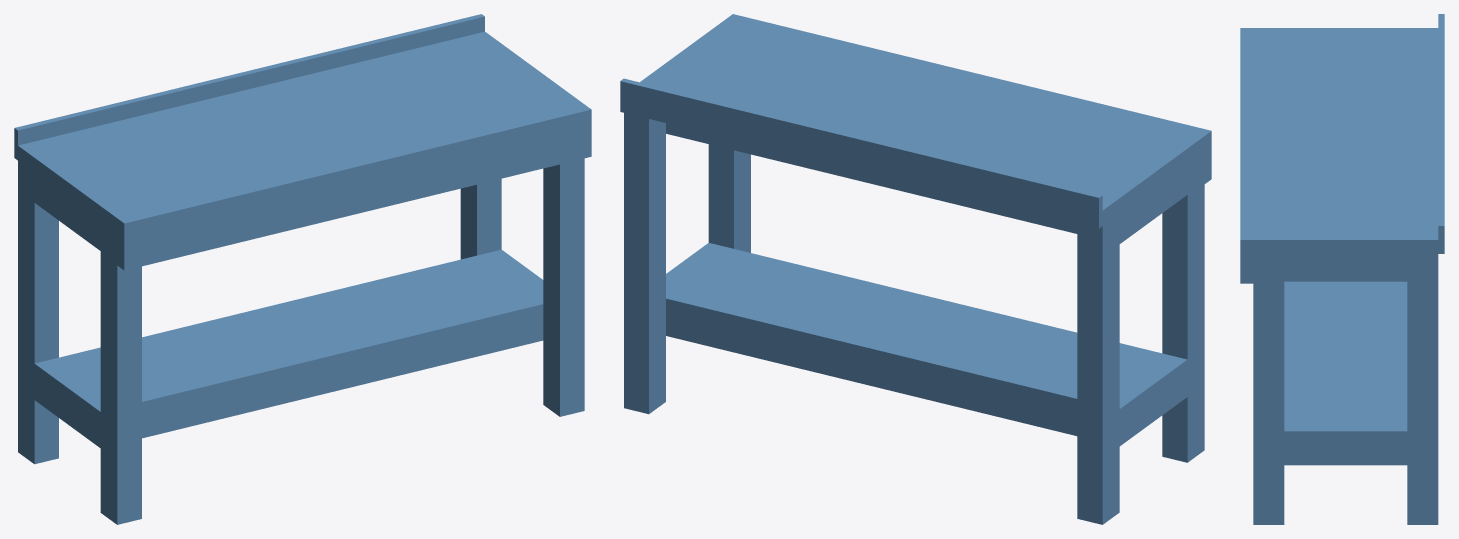
3 renders of one model, left to right at view 1: azimuth 30°, elevation 25°; view 2: azimuth 150°, elevation 25°; view 3: azimuth 270°, elevation 25°, orthographic. The views are drawn at different scales.
Visible parts, largest first — view 1: mesh37_mesh37-geometry, mesh39_mesh39-geometry, mesh35_mesh35-geometry, mesh29_mesh29-geometry, mesh41_mesh41-geometry, mesh15_mesh15-geometry, mesh1_mesh1-geometry, mesh3_mesh3-geometry, mesh43_mesh43-geometry, mesh17_mesh17-geometry, mesh9_mesh9-geometry, mesh19_mesh19-geometry (+6 smaller); view 2: mesh37_mesh37-geometry, mesh39_mesh39-geometry, mesh41_mesh41-geometry, mesh25_mesh25-geometry, mesh13_mesh13-geometry, mesh3_mesh3-geometry, mesh1_mesh1-geometry, mesh43_mesh43-geometry, mesh27_mesh27-geometry, mesh35_mesh35-geometry, mesh11_mesh11-geometry, mesh17_mesh17-geometry (+7 smaller); view 3: mesh37_mesh37-geometry, mesh39_mesh39-geometry, mesh23_mesh23-geometry, mesh21_mesh21-geometry, mesh5_mesh5-geometry, mesh7_mesh7-geometry, mesh43_mesh43-geometry, mesh35_mesh35-geometry, mesh41_mesh41-geometry, mesh31_mesh31-geometry, mesh33_mesh33-geometry.
Boxes of the visible parts, bbox=[...] form: mesh37_mesh37-geometry: bbox=[18, 31, 583, 219]; mesh39_mesh39-geometry: bbox=[34, 249, 543, 417]; mesh35_mesh35-geometry: bbox=[117, 104, 591, 270]; mesh29_mesh29-geometry: bbox=[142, 310, 543, 438]; mesh41_mesh41-geometry: bbox=[14, 14, 484, 160]; mesh15_mesh15-geometry: bbox=[543, 161, 572, 416]; mesh1_mesh1-geometry: bbox=[100, 251, 129, 430]; mesh3_mesh3-geometry: bbox=[18, 191, 46, 369]; mesh43_mesh43-geometry: bbox=[18, 346, 584, 524]; mesh17_mesh17-geometry: bbox=[18, 358, 129, 460]; mesh9_mesh9-geometry: bbox=[129, 266, 141, 521]; mesh19_mesh19-geometry: bbox=[18, 161, 117, 262]; mesh37_mesh37-geometry: bbox=[640, 19, 1204, 212]; mesh39_mesh39-geometry: bbox=[666, 243, 1187, 415]; mesh41_mesh41-geometry: bbox=[620, 78, 1102, 228]; mesh25_mesh25-geometry: bbox=[666, 305, 1077, 435]; mesh13_mesh13-geometry: bbox=[636, 116, 665, 414]; mesh3_mesh3-geometry: bbox=[1090, 244, 1119, 428]; mesh1_mesh1-geometry: bbox=[1175, 182, 1204, 365]; mesh43_mesh43-geometry: bbox=[624, 342, 1204, 524]; mesh27_mesh27-geometry: bbox=[666, 123, 1077, 233]; mesh35_mesh35-geometry: bbox=[726, 14, 1211, 183]; mesh11_mesh11-geometry: bbox=[1077, 223, 1089, 521]; mesh17_mesh17-geometry: bbox=[1090, 354, 1204, 458]; mesh37_mesh37-geometry: bbox=[1253, 28, 1438, 241]; mesh39_mesh39-geometry: bbox=[1284, 281, 1407, 437]; mesh23_mesh23-geometry: bbox=[1253, 437, 1438, 465]; mesh21_mesh21-geometry: bbox=[1253, 254, 1438, 281]; mesh5_mesh5-geometry: bbox=[1253, 281, 1284, 437]; mesh7_mesh7-geometry: bbox=[1407, 281, 1438, 437]; mesh43_mesh43-geometry: bbox=[1253, 465, 1438, 524]; mesh35_mesh35-geometry: bbox=[1240, 28, 1253, 283]; mesh41_mesh41-geometry: bbox=[1438, 14, 1444, 253]; mesh31_mesh31-geometry: bbox=[1253, 248, 1438, 253]; mesh33_mesh33-geometry: bbox=[1253, 242, 1438, 247].
Size of the model in its own units: 0.7908 by 0.5202 by 0.3225.
